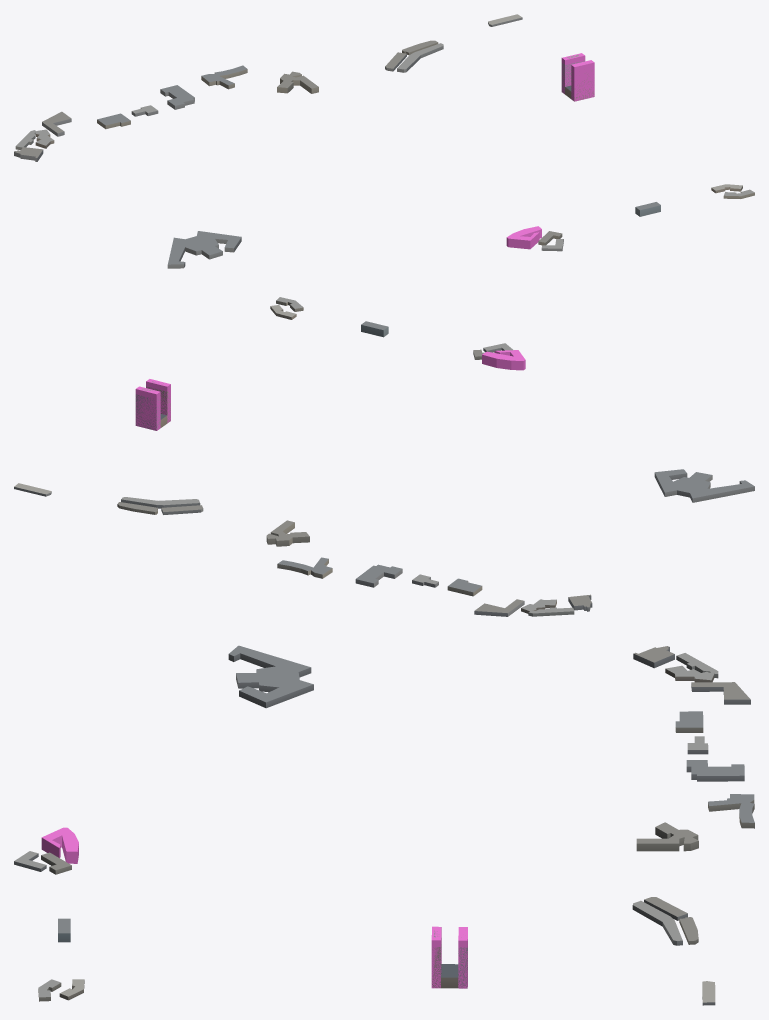
Rendered from bld_10_2.fbx.
3 renders of one model, top to bottom at view 1: azimuth 30°, elevation 25°; view 2: azimuth 150°, elevation 25°; view 3: azimuth 270°, elevation 25°, orthographic. The views are drawn at different scales.
Visible parts, largest first — view 1: bld_10_2_LOD0, bld_10_2_COL; view 2: bld_10_2_LOD0, bld_10_2_COL; view 3: bld_10_2_LOD0, bld_10_2_COL.
Part boxes in pixels (bbox=[...]): bld_10_2_LOD0: bbox=[14, 14, 754, 268]; bld_10_2_COL: bbox=[506, 53, 594, 249]; bld_10_2_LOD0: bbox=[14, 297, 754, 616]; bld_10_2_COL: bbox=[135, 350, 525, 430]; bld_10_2_LOD0: bbox=[14, 645, 754, 1005]; bld_10_2_COL: bbox=[41, 827, 467, 988].
Size of what is drawn, in the model's own units: 1664 by 105 by 1471.
